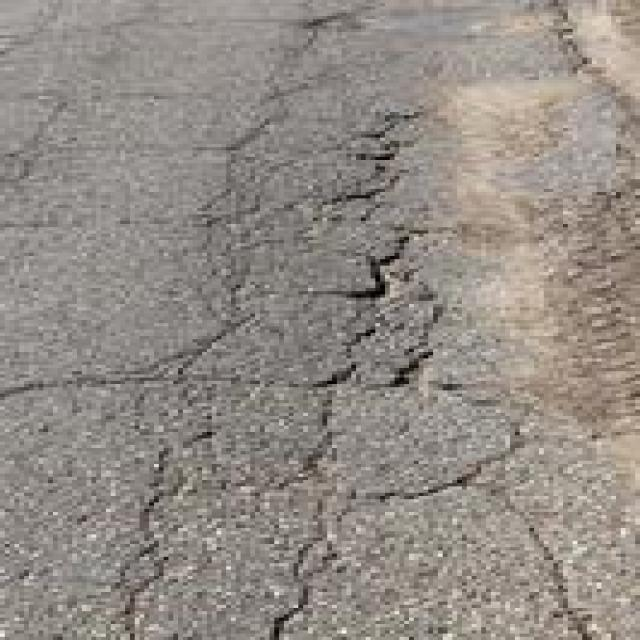road collapse: (80, 6, 640, 640)
